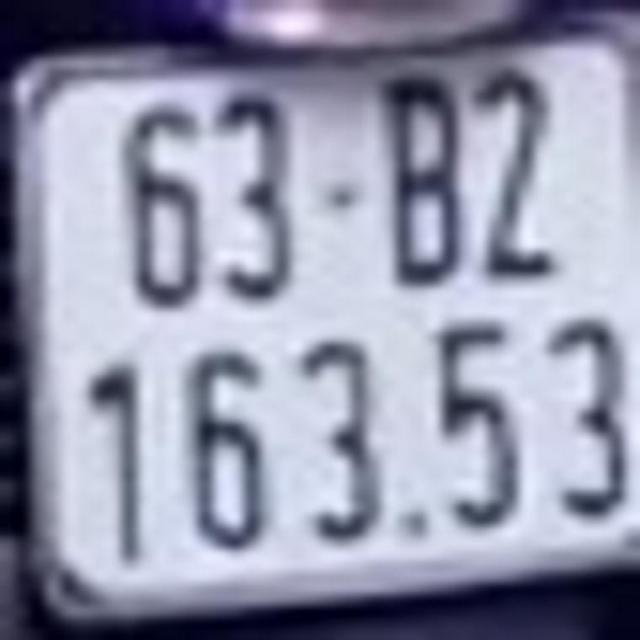1: (88, 356, 149, 564)
2: (468, 62, 565, 274)
3: (542, 302, 634, 522), (212, 88, 302, 298), (300, 321, 383, 544)
5: (440, 305, 522, 529)
6: (119, 85, 204, 308), (191, 341, 265, 548)
B: (382, 70, 464, 284)
